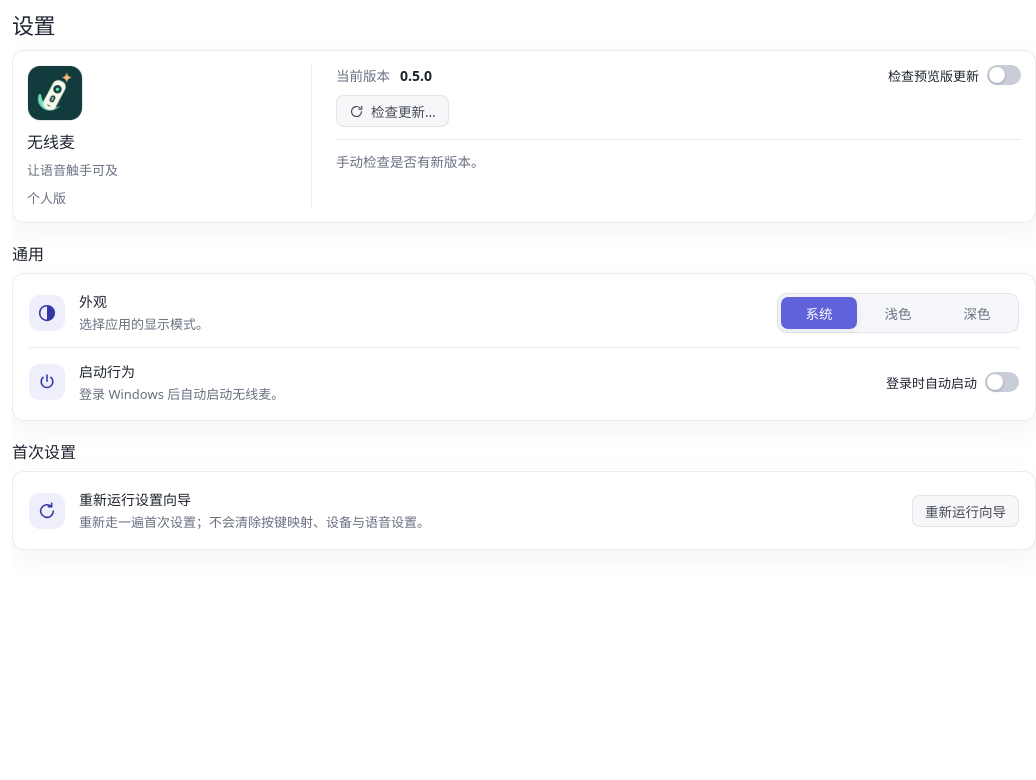
Test case: settings page › 首次设置：重置失败时就地报错，不发进入向导事件
Click the button "重新运行向导" at (966, 511), box [912, 495, 1019, 527]
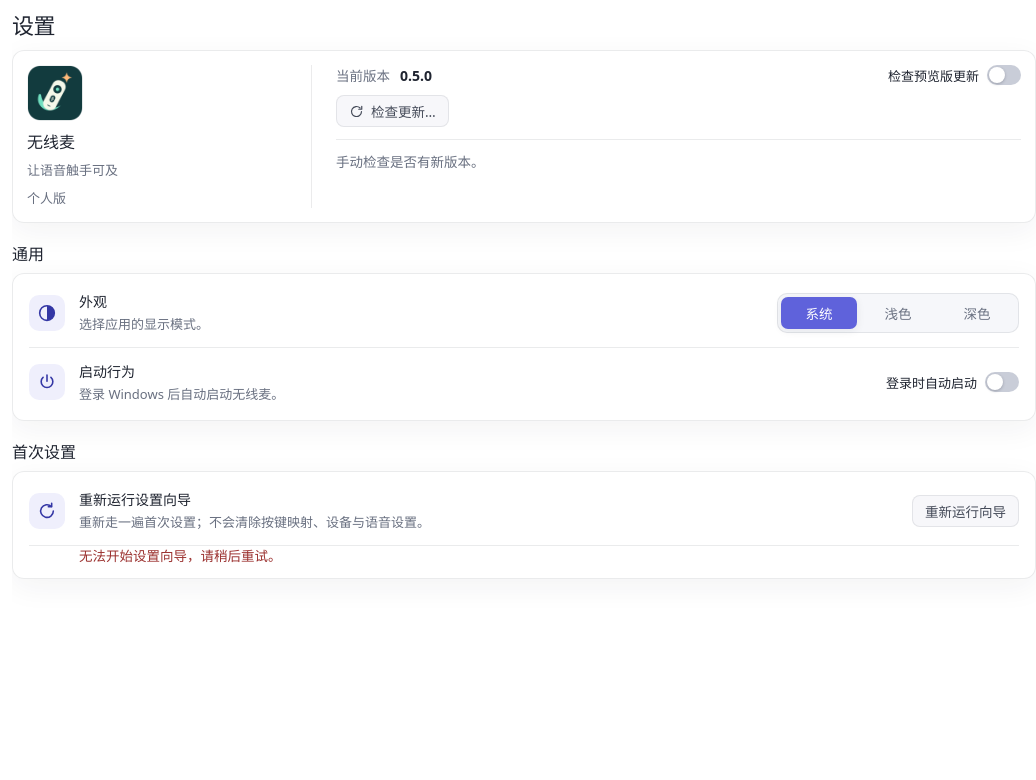
Now the message "无法开始设置向导，请稍后重试。" is shown, box [79, 547, 282, 565]
